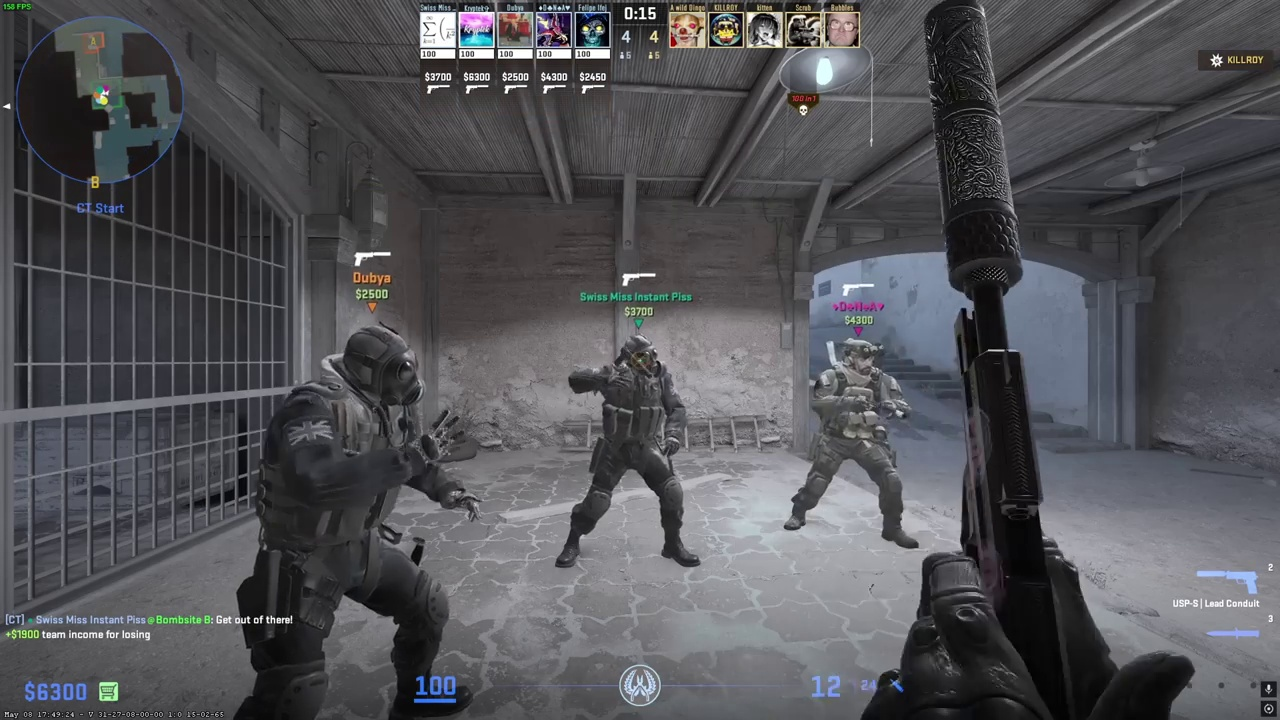CT: (247, 324, 460, 720), (561, 334, 701, 568), (788, 337, 919, 548)
